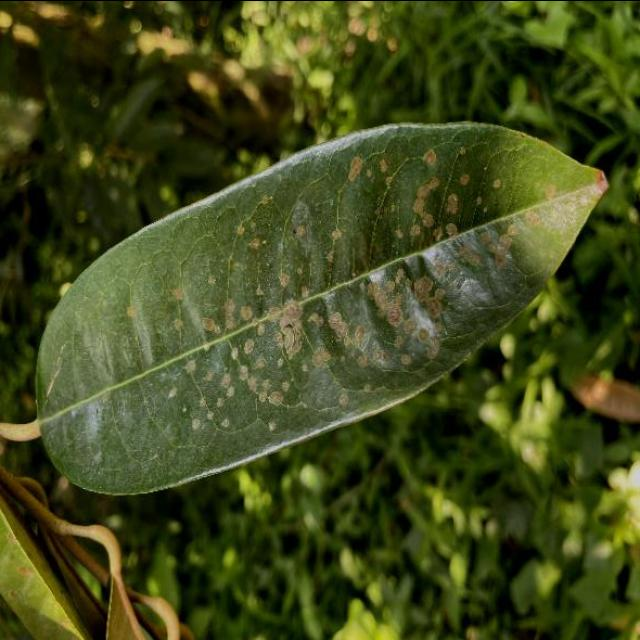Algal Leaf Spot: (14, 99, 618, 507)
